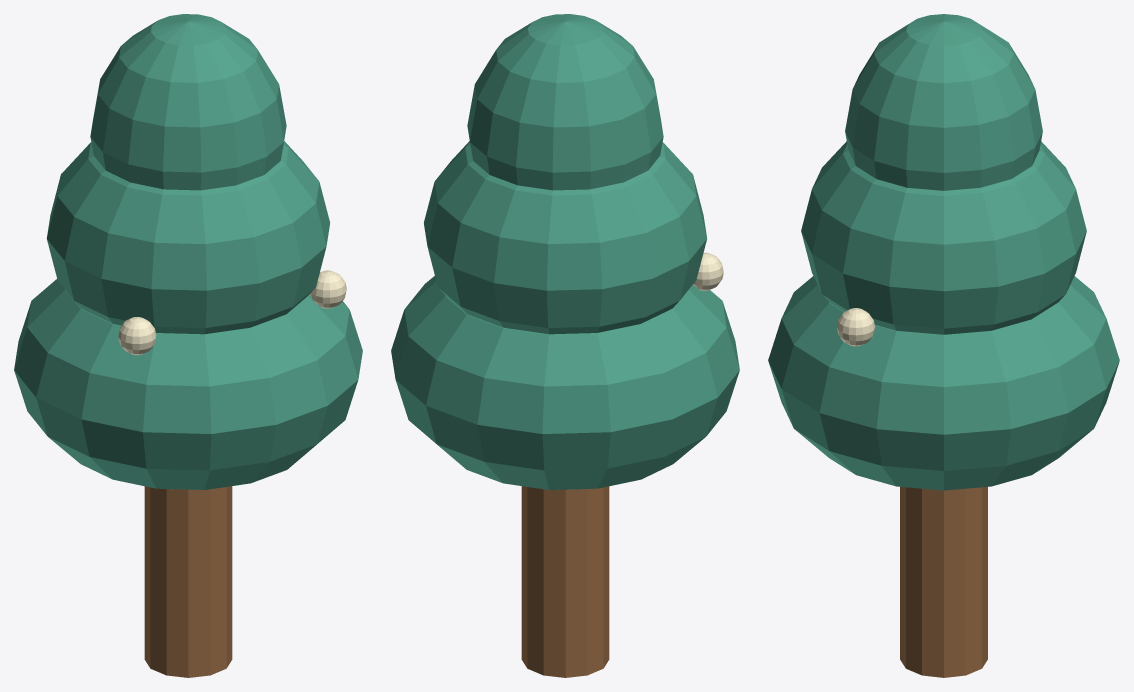
File: prop-tree.glb
The picture shows the model from 3 angles, left to right: view 1: azimuth 30°, elevation 25°; view 2: azimuth 150°, elevation 25°; view 3: azimuth 270°, elevation 25°; orthographic projection.
Visible parts, largest first — view 1: Crown, Crown.001, Crown.002, Trunk, Fruit, Fruit.001; view 2: Crown, Crown.001, Crown.002, Trunk, Fruit; view 3: Crown, Crown.001, Crown.002, Trunk, Fruit.001.
Boxes of the visible parts, x1,y1,x2,y2 form: Crown: [14, 279, 362, 489]; Crown.001: [46, 141, 329, 334]; Crown.002: [90, 14, 286, 190]; Trunk: [144, 486, 232, 677]; Fruit: [118, 317, 156, 355]; Fruit.001: [310, 270, 346, 308]; Crown: [391, 276, 739, 489]; Crown.001: [424, 141, 707, 334]; Crown.002: [467, 14, 663, 190]; Trunk: [521, 486, 609, 677]; Fruit: [693, 252, 723, 290]; Crown: [768, 276, 1119, 490]; Crown.001: [801, 141, 1086, 334]; Crown.002: [845, 14, 1042, 190]; Trunk: [900, 487, 987, 677]; Fruit.001: [837, 308, 875, 346].
Bounding box in the file's own units: 3.2 × 6.4 × 3.2.
